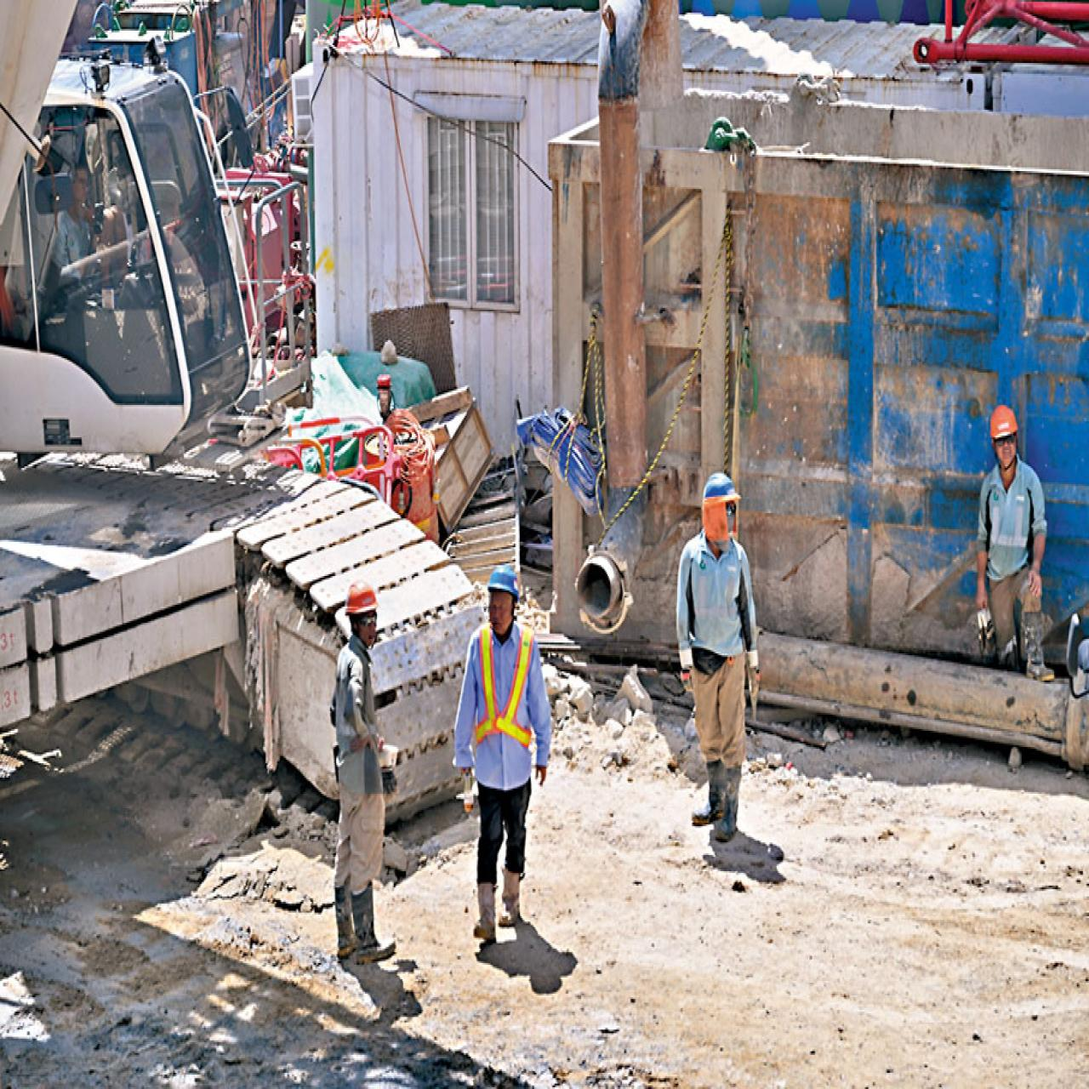NO_Safety_Vest: (677, 534, 763, 678), (327, 640, 394, 804), (974, 458, 1046, 588)
Person: (443, 545, 558, 948), (667, 465, 768, 848), (319, 563, 404, 968), (968, 401, 1056, 683)
Safety_Vest: (460, 614, 545, 800)
